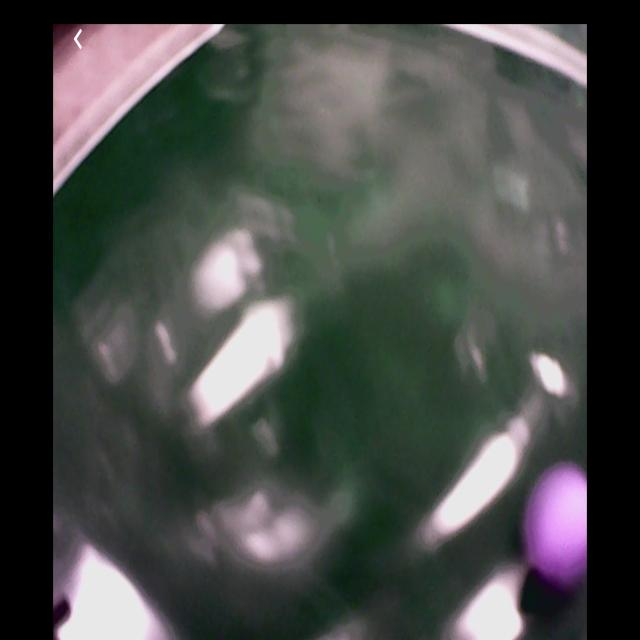ball: (523, 461, 589, 592)
